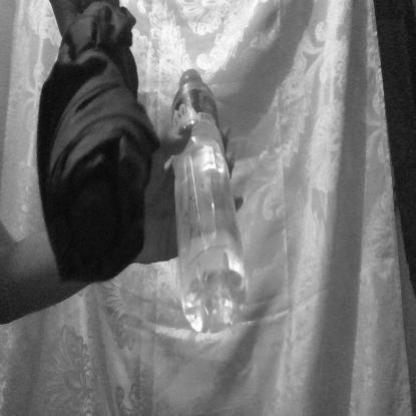Plastic Bottle: (163, 44, 259, 354)
